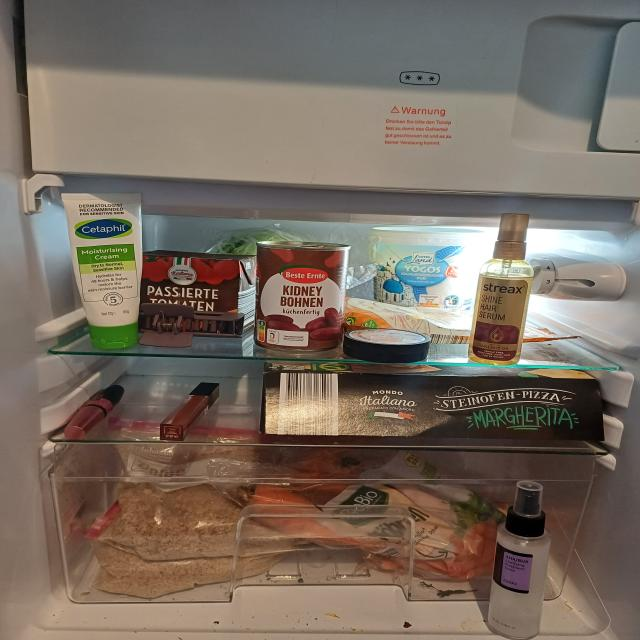Beans: (260, 240, 344, 352)
Hair serum: (467, 209, 536, 368)
Lipstick: (157, 376, 226, 444)
Make up: (344, 324, 434, 358)
Masscara: (61, 374, 126, 442)
Moisturizer: (54, 191, 153, 351)
Pizza: (258, 354, 607, 444)
Plastic bag: (83, 448, 272, 594)
Tomato Puree: (143, 245, 256, 333)
Toner: (486, 477, 562, 640)
Yogurt: (370, 219, 475, 313)
cabbage: (206, 226, 300, 260)
carrots: (259, 452, 542, 570)
